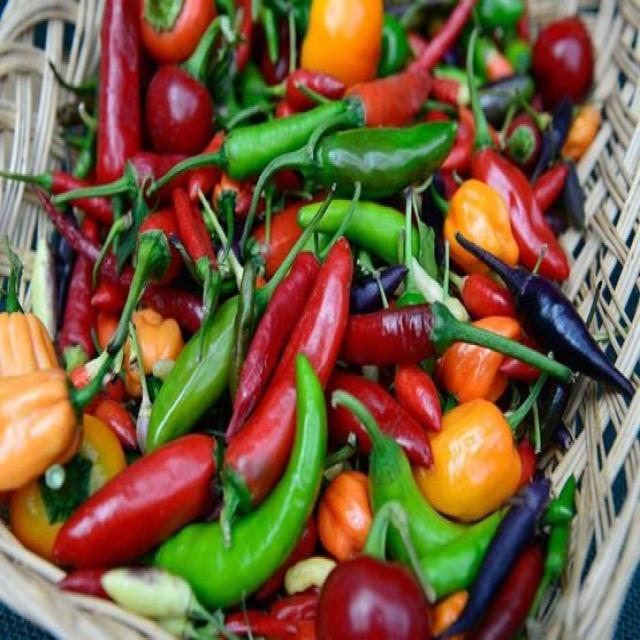Chilli Pepper: (319, 387, 566, 617), (215, 232, 362, 506), (460, 218, 627, 397), (331, 276, 572, 397), (111, 274, 280, 437), (45, 435, 231, 573), (175, 80, 399, 186), (66, 6, 162, 240), (278, 517, 450, 640), (0, 310, 107, 494), (285, 113, 464, 211), (267, 115, 468, 201), (420, 401, 534, 529), (280, 2, 407, 107), (146, 8, 219, 136), (526, 13, 601, 128)
